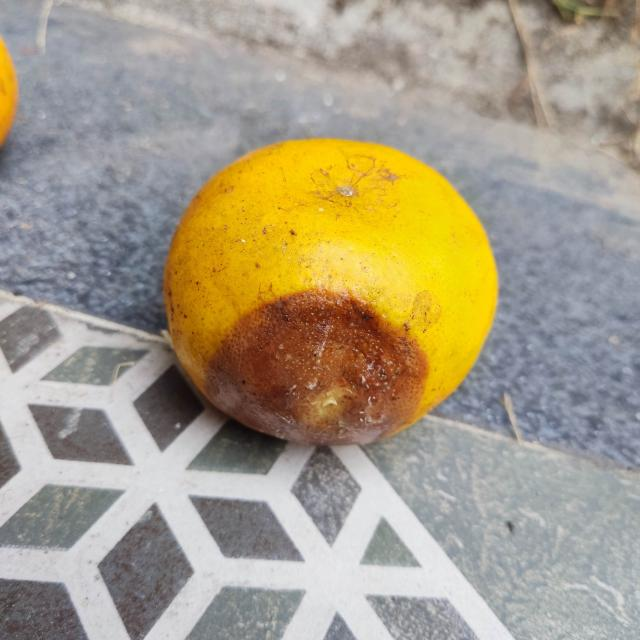orange: (160, 132, 499, 446)
